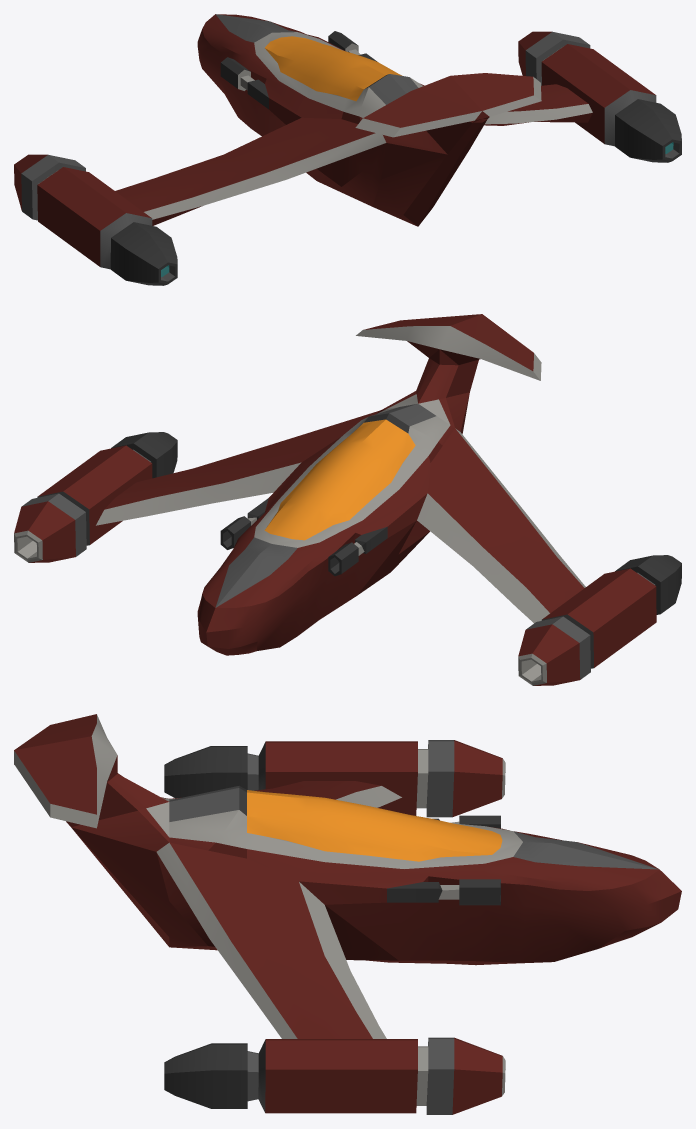
Rendered from Basic-Enemy-Cannon-Ship-v02.glb.
3 views of the same model, one above another, from view 1: azimuth 30°, elevation 25°; view 2: azimuth 150°, elevation 25°; view 3: azimuth 270°, elevation 25° (orthographic). The views are drawn at different scales.
Parts seen in each view (by area): view 1: Ship; view 2: Ship; view 3: Ship.
Part boxes in pixels (x1=…): Ship: x1=14, y1=14, x2=681, y2=285; Ship: x1=14, y1=314, x2=681, y2=685; Ship: x1=14, y1=714, x2=681, y2=1114.
Size of the model in its own units: 15.06 by 4.88 by 12.9.
